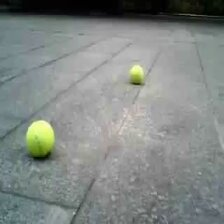tennis: (26, 121, 54, 156), (129, 66, 142, 81)
